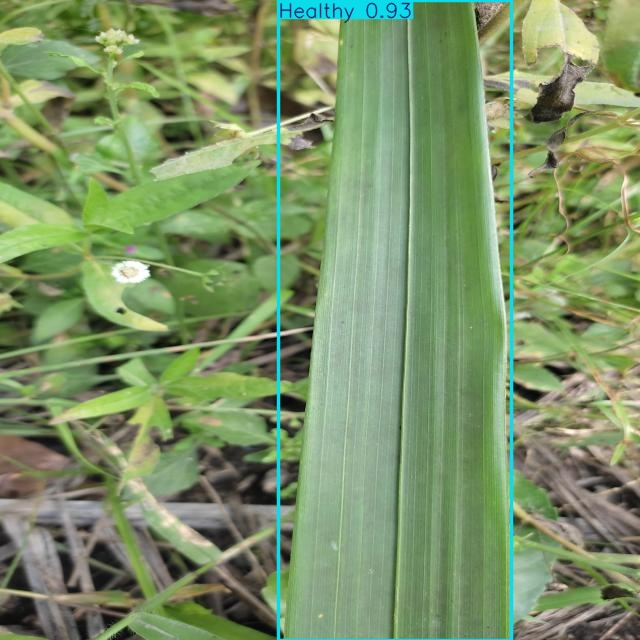Healthy: (278, 0, 512, 640)
